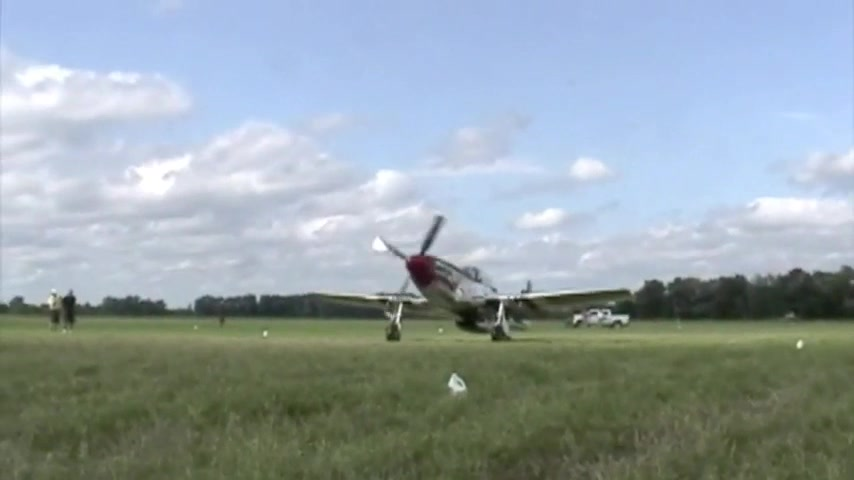aeroplane: (304, 215, 634, 343)
